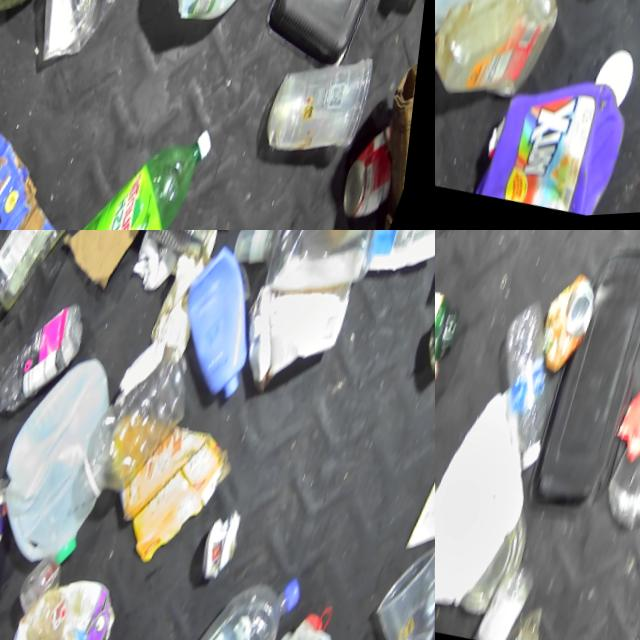can: (535, 269, 613, 375), (125, 230, 284, 272)
milk_jug: (0, 351, 148, 581), (171, 559, 321, 640), (137, 0, 300, 41), (245, 596, 369, 640)
non_white_jug: (489, 59, 640, 224), (163, 239, 293, 400)
plastic_bottle: (472, 309, 600, 479), (261, 39, 391, 179), (0, 230, 107, 331)
